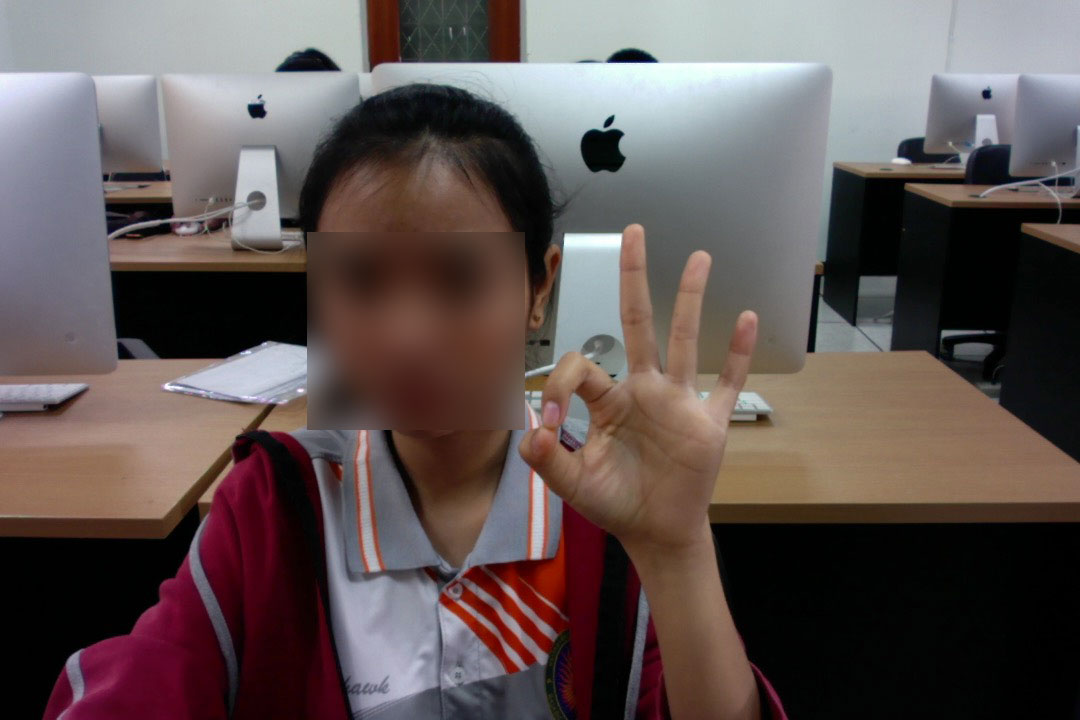for: (514, 213, 771, 577)
